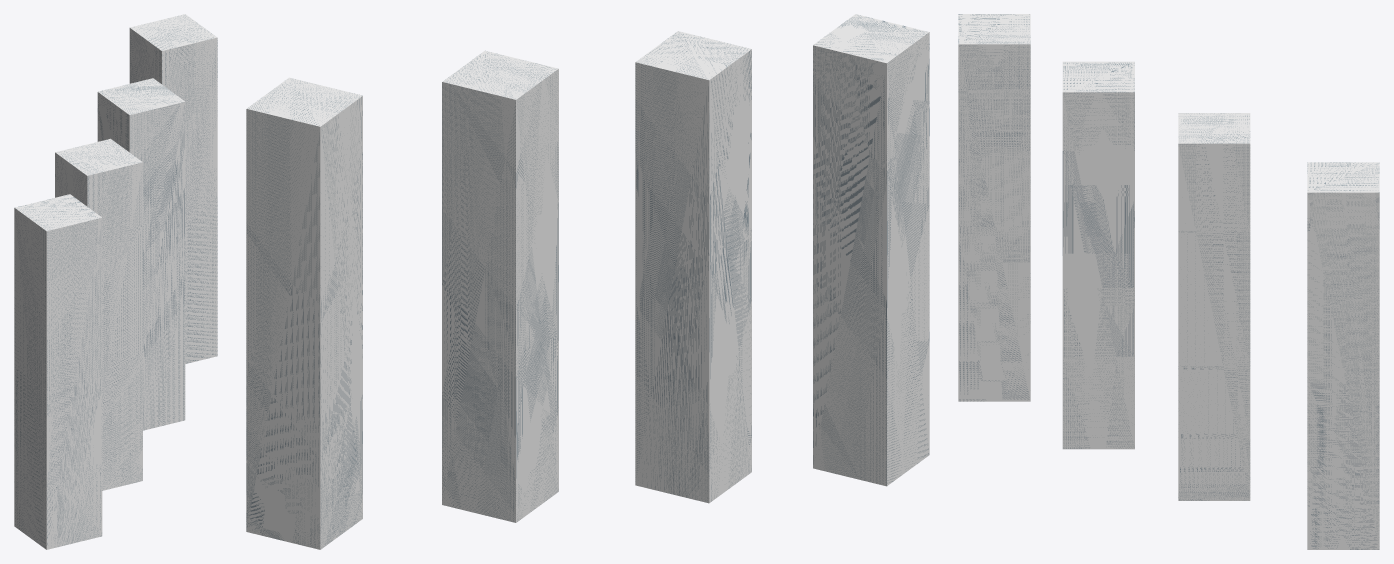
3 renders of one model, left to right at view 1: azimuth 30°, elevation 25°; view 2: azimuth 150°, elevation 25°; view 3: azimuth 270°, elevation 25°, orthographic. The views are drawn at different scales.
Parts seen in each view (by area): view 1: SketchUp (×4); view 2: SketchUp (×4); view 3: SketchUp (×4).
Boxes of the visible parts, bbox=[...] form: SketchUp (×4): bbox=[14, 14, 217, 549]; SketchUp (×4): bbox=[246, 14, 929, 549]; SketchUp (×4): bbox=[958, 14, 1379, 549].
Bounding box in the file's own units: 3761 × 3747 × 3506.
